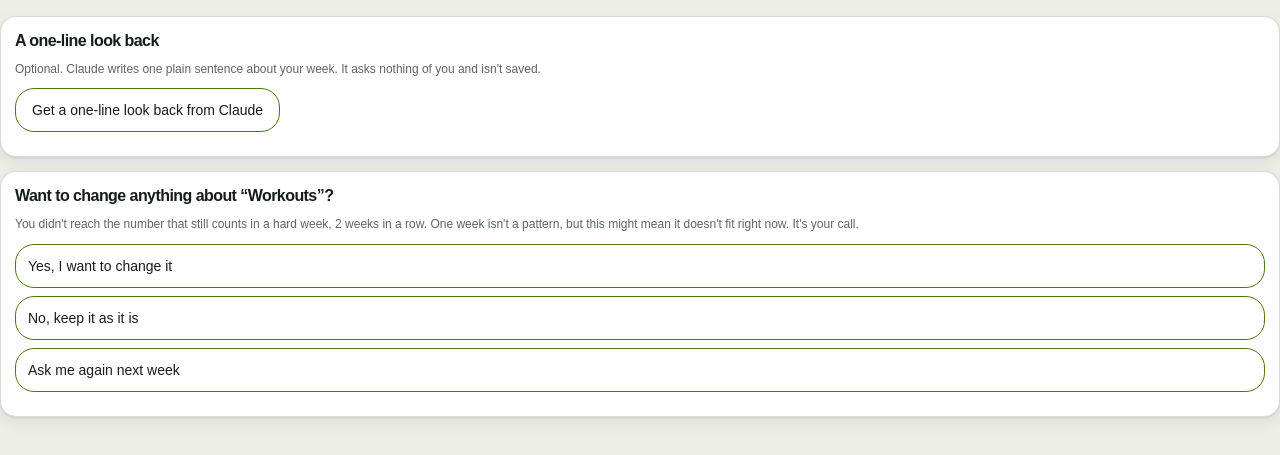
Test: layer 2: Claude's one-line look back › says so, and goes on, when the action itself fails
Click the button "Get a one-line look back from Claude".
click(148, 110)  # box [15,88,280,132]
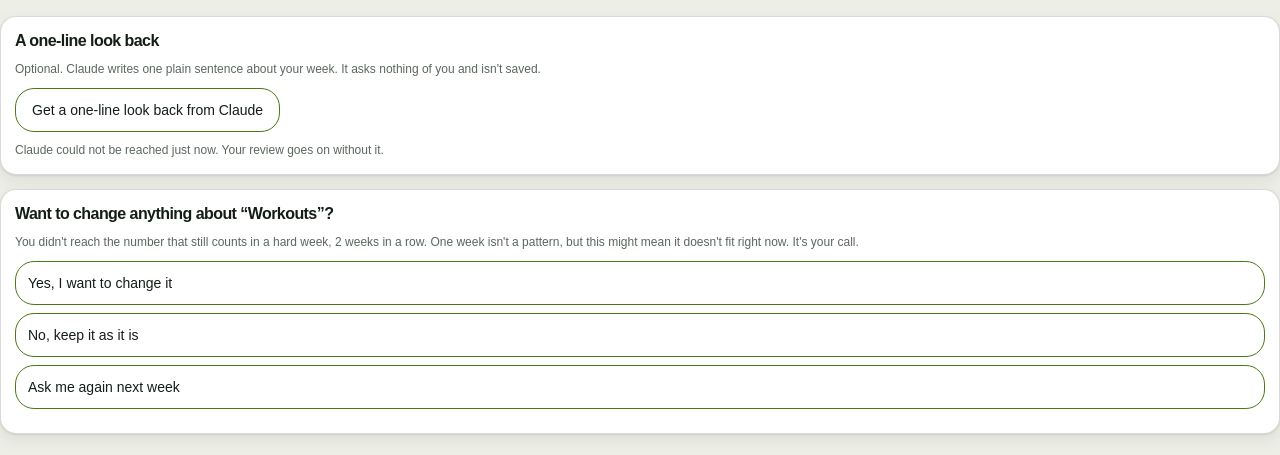
Now the text "Claude could not be reached just now. Your review goes on without it." is shown, box [15,143,384,157]
